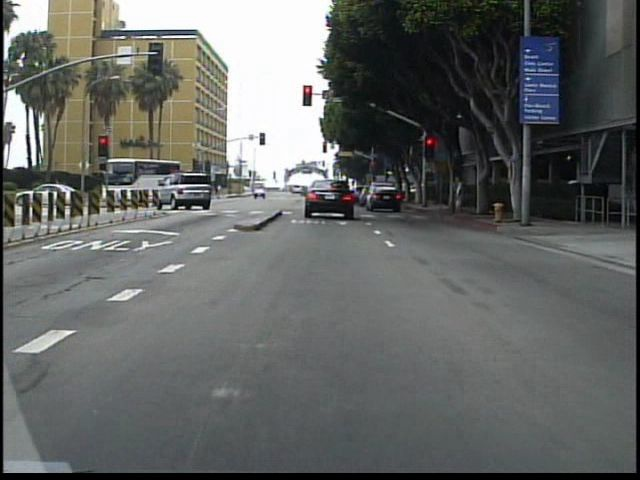person: (452, 169, 470, 215)
